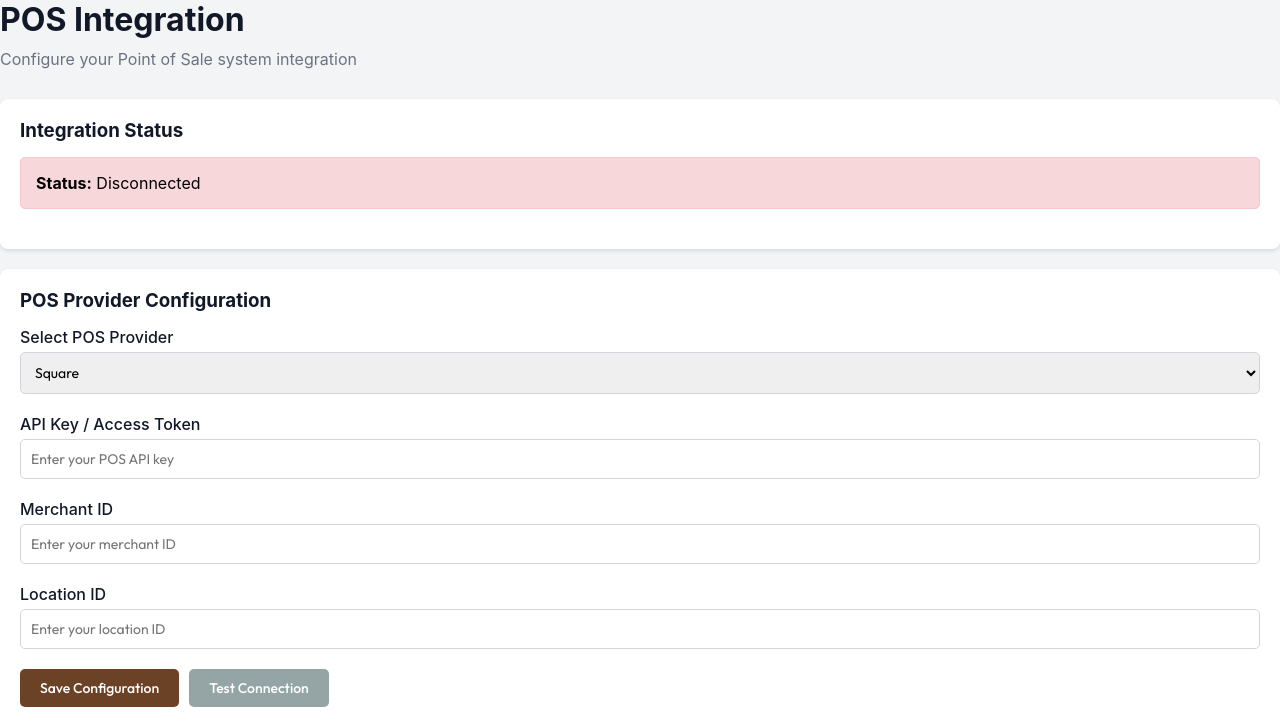
Test: POSIntegration › shows connection test result
Click the button "Test Connection" at (259,688), box top-left (189, 669), bottom-right (329, 707)
(page scrolled)
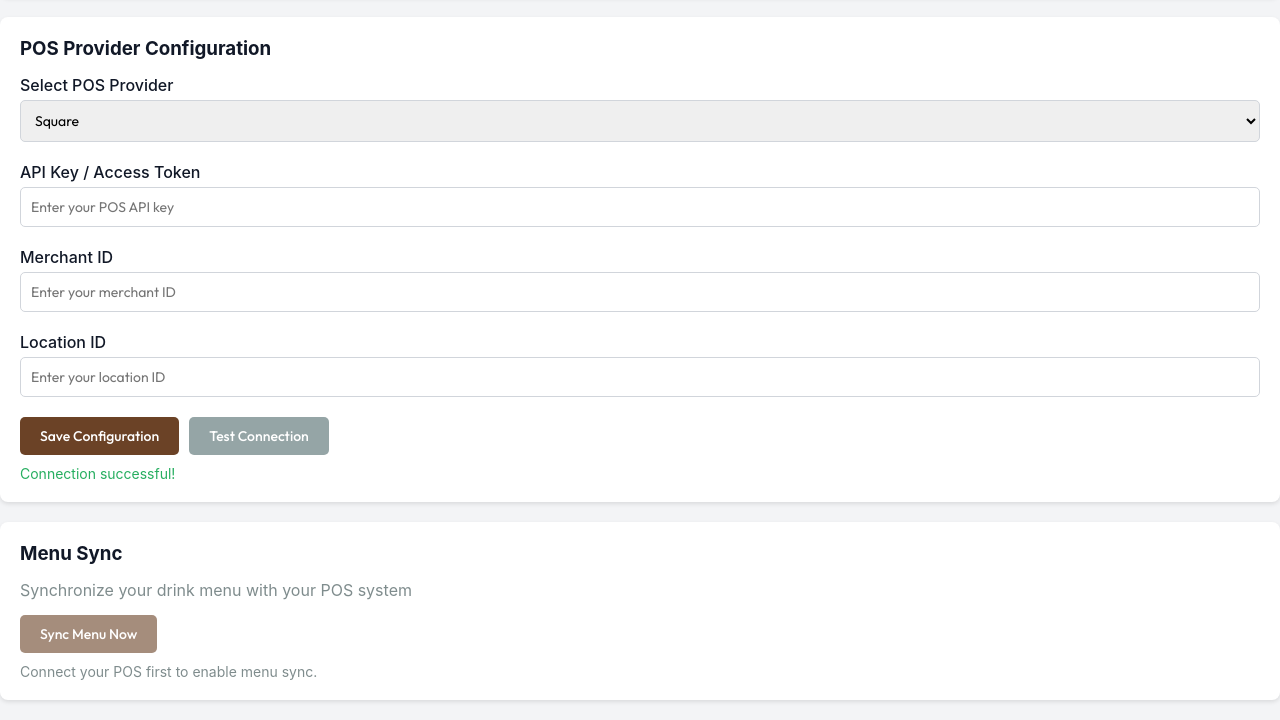
Now the text "Connection successful!" is shown, box top-left (20, 465), bottom-right (175, 482)
